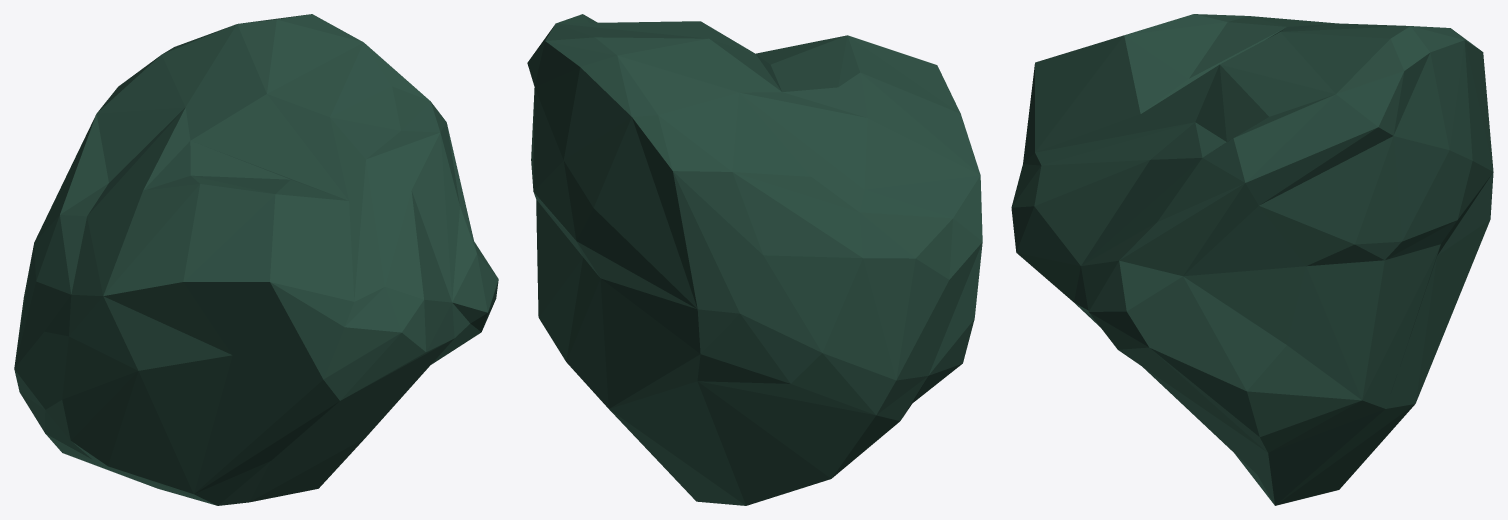
The model's file is SM_large_rock_52.fbx.
3 renders of one model, left to right at view 1: azimuth 30°, elevation 25°; view 2: azimuth 150°, elevation 25°; view 3: azimuth 270°, elevation 25°, orthographic. The views are drawn at different scales.
Parts seen in each view (by area): view 1: large_rock_52; view 2: large_rock_52; view 3: large_rock_52.
Boxes of the visible parts, x1=… form: large_rock_52: x1=14, y1=14, x2=498, y2=505; large_rock_52: x1=527, y1=14, x2=982, y2=505; large_rock_52: x1=1011, y1=14, x2=1493, y2=505.
Bounding box in the file's own units: 76.05 × 80.76 × 71.81.
